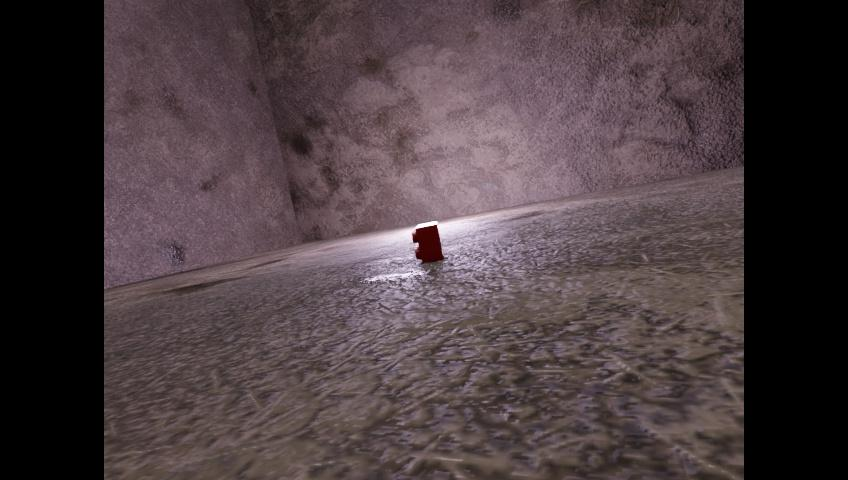4x2_red: (411, 221, 442, 262)
